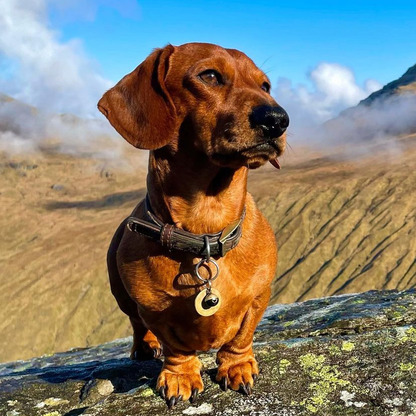dachshund: (81, 38, 295, 392)
